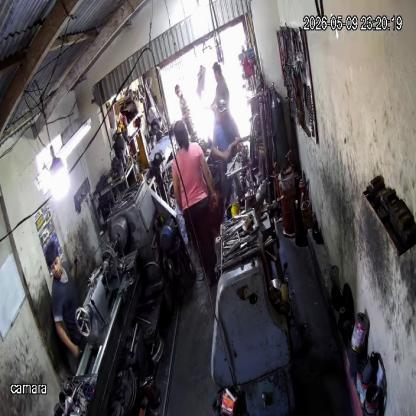sin_lentes: (50, 258, 62, 271)
